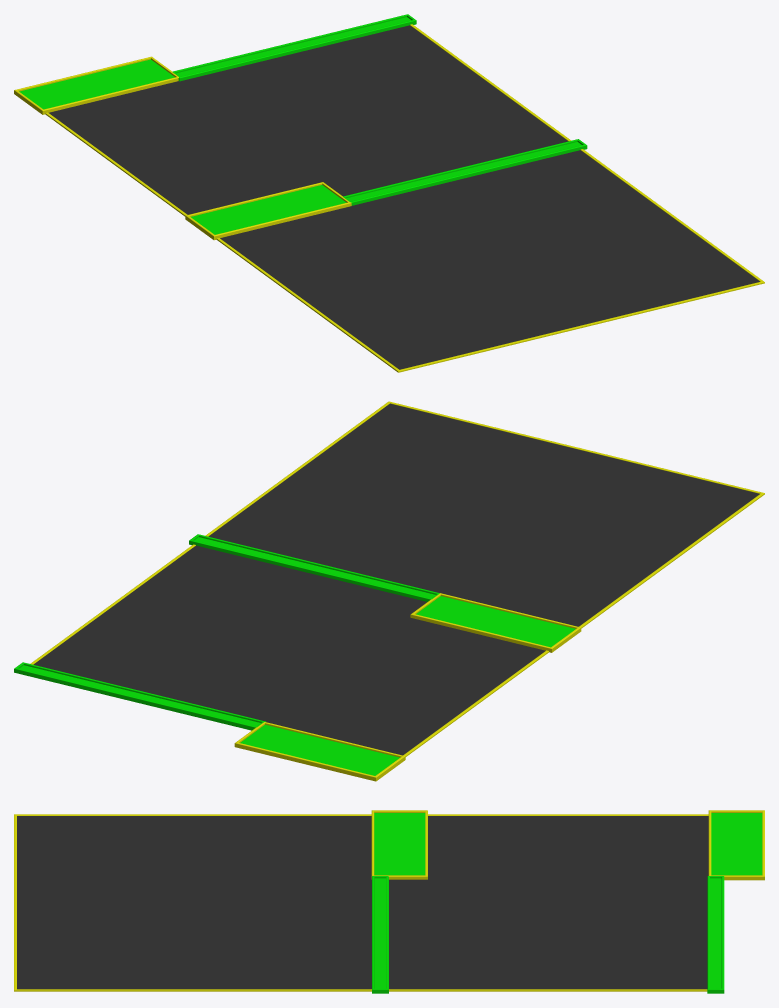
The model's file is ArchadeSide.fbx.
The picture shows the model from 3 angles, top to bottom: view 1: azimuth 30°, elevation 25°; view 2: azimuth 150°, elevation 25°; view 3: azimuth 270°, elevation 25°; orthographic projection. The views are drawn at different scales.
Parts seen in each view (by area): view 1: InfoArchade, Friends, Top, T1, F; view 2: InfoArchade, Top, Friends, T1, F; view 3: InfoArchade, Top, Friends, T1, F.
Boxes of the visible parts, x1=… form: InfoArchade: x1=45, y1=24, x2=764, y2=372; Friends: x1=185, y1=182, x2=351, y2=240; Top: x1=14, y1=56, x2=178, y2=114; T1: x1=172, y1=14, x2=416, y2=81; F: x1=343, y1=139, x2=587, y2=205; InfoArchade: x1=30, y1=401, x2=764, y2=756; Top: x1=234, y1=722, x2=405, y2=781; Friends: x1=410, y1=593, x2=581, y2=652; T1: x1=14, y1=662, x2=265, y2=730; F: x1=189, y1=534, x2=439, y2=601; InfoArchade: x1=14, y1=814, x2=708, y2=991; Top: x1=708, y1=810, x2=764, y2=880; Friends: x1=371, y1=810, x2=427, y2=879; T1: x1=707, y1=876, x2=724, y2=993; F: x1=372, y1=876, x2=388, y2=993.
Bounding box in the file's own units: 1.03 × 0.0111 × 1.82.
